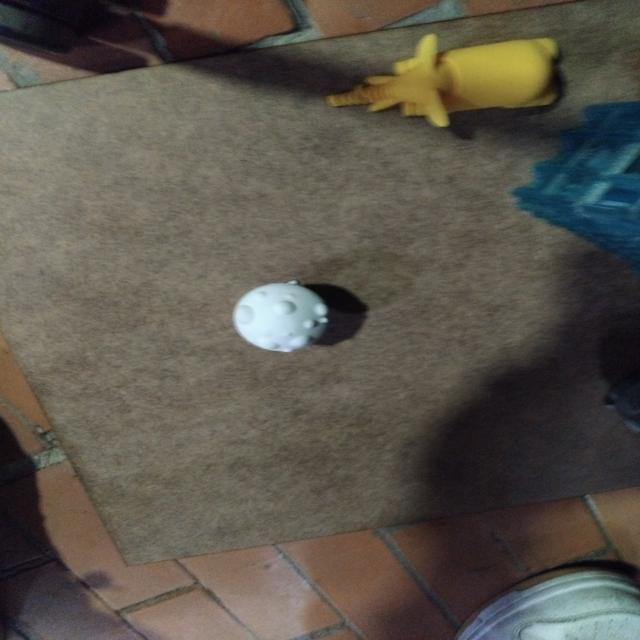Hongo: (221, 271, 346, 360)
